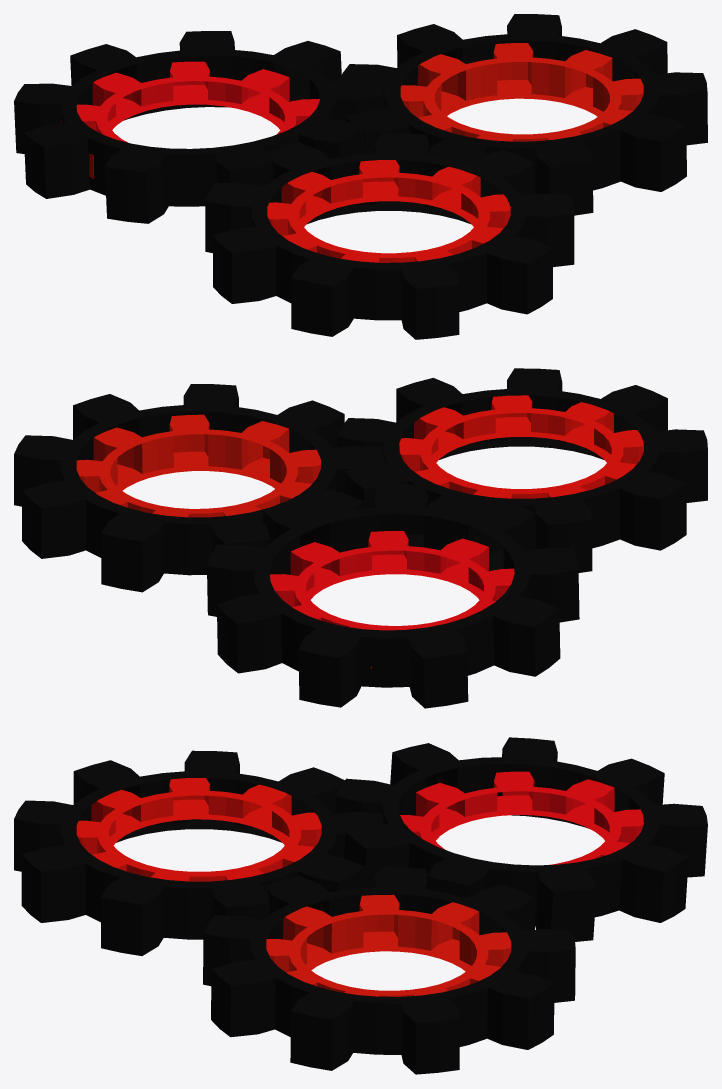
The model's file is TRS.fbx.
3 views of the same model, one above another, from view 1: azimuth 30°, elevation 25°; view 2: azimuth 150°, elevation 25°; view 3: azimuth 270°, elevation 25° (orthographic).
Visible parts, largest first — view 1: Gear.005, Gear.001, Gear.011, Gear.003, Gear.006, Gear.002; view 2: Gear.001, Gear.011, Gear.005, Gear.003, Gear.006, Gear.002; view 3: Gear.011, Gear.001, Gear.005, Gear.003, Gear.006, Gear.002.
Boxes of the visible parts, left/top/right/bottom form: Gear.005: left=205, top=133, right=574, bottom=339; Gear.001: left=14, top=31, right=383, bottom=223; Gear.011: left=339, top=14, right=707, bottom=215; Gear.003: left=400, top=43, right=643, bottom=141; Gear.006: left=267, top=160, right=510, bottom=262; Gear.002: left=61, top=61, right=319, bottom=178; Gear.001: left=207, top=484, right=579, bottom=708; Gear.011: left=14, top=384, right=384, bottom=592; Gear.005: left=337, top=368, right=707, bottom=572; Gear.003: left=76, top=414, right=320, bottom=517; Gear.006: left=399, top=395, right=643, bottom=498; Gear.002: left=270, top=531, right=514, bottom=668; Gear.011: left=203, top=867, right=575, bottom=1074; Gear.001: left=334, top=737, right=707, bottom=941; Gear.005: left=14, top=750, right=383, bottom=955; Gear.003: left=266, top=894, right=511, bottom=996; Gear.006: left=76, top=778, right=321, bottom=881; Gear.002: left=400, top=771, right=643, bottom=864.
Size of the model in its own units: 547 by 64.12 by 564.
